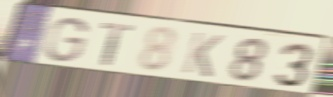3: (273, 41, 315, 89)
8: (137, 25, 179, 75), (227, 36, 268, 84)
G: (43, 16, 91, 64)
K: (179, 30, 226, 80)
T: (100, 21, 135, 68)
